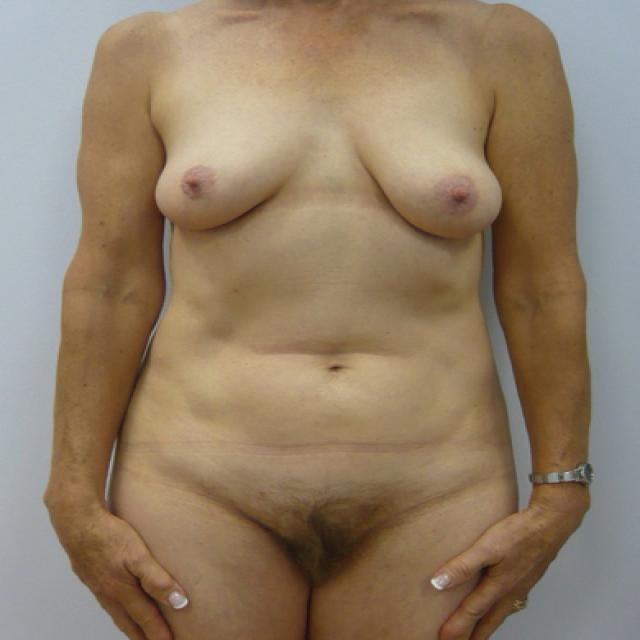Seno ileso: (333, 93, 508, 252), (150, 93, 324, 243)
